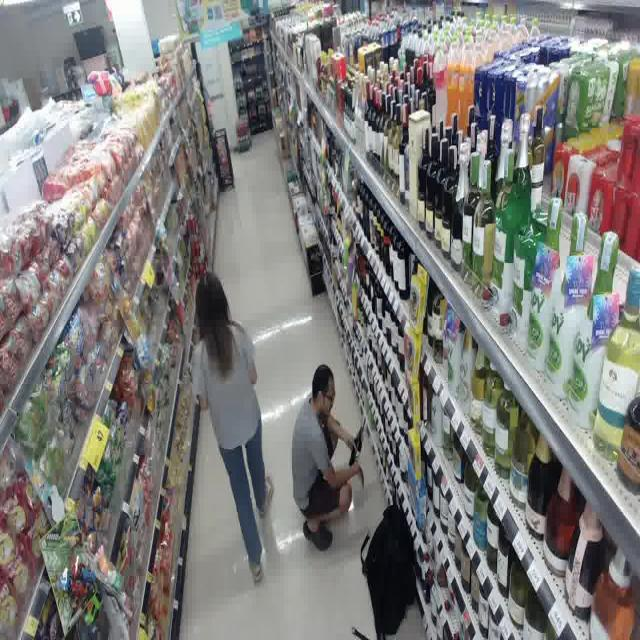pickup: (282, 347, 378, 571)
